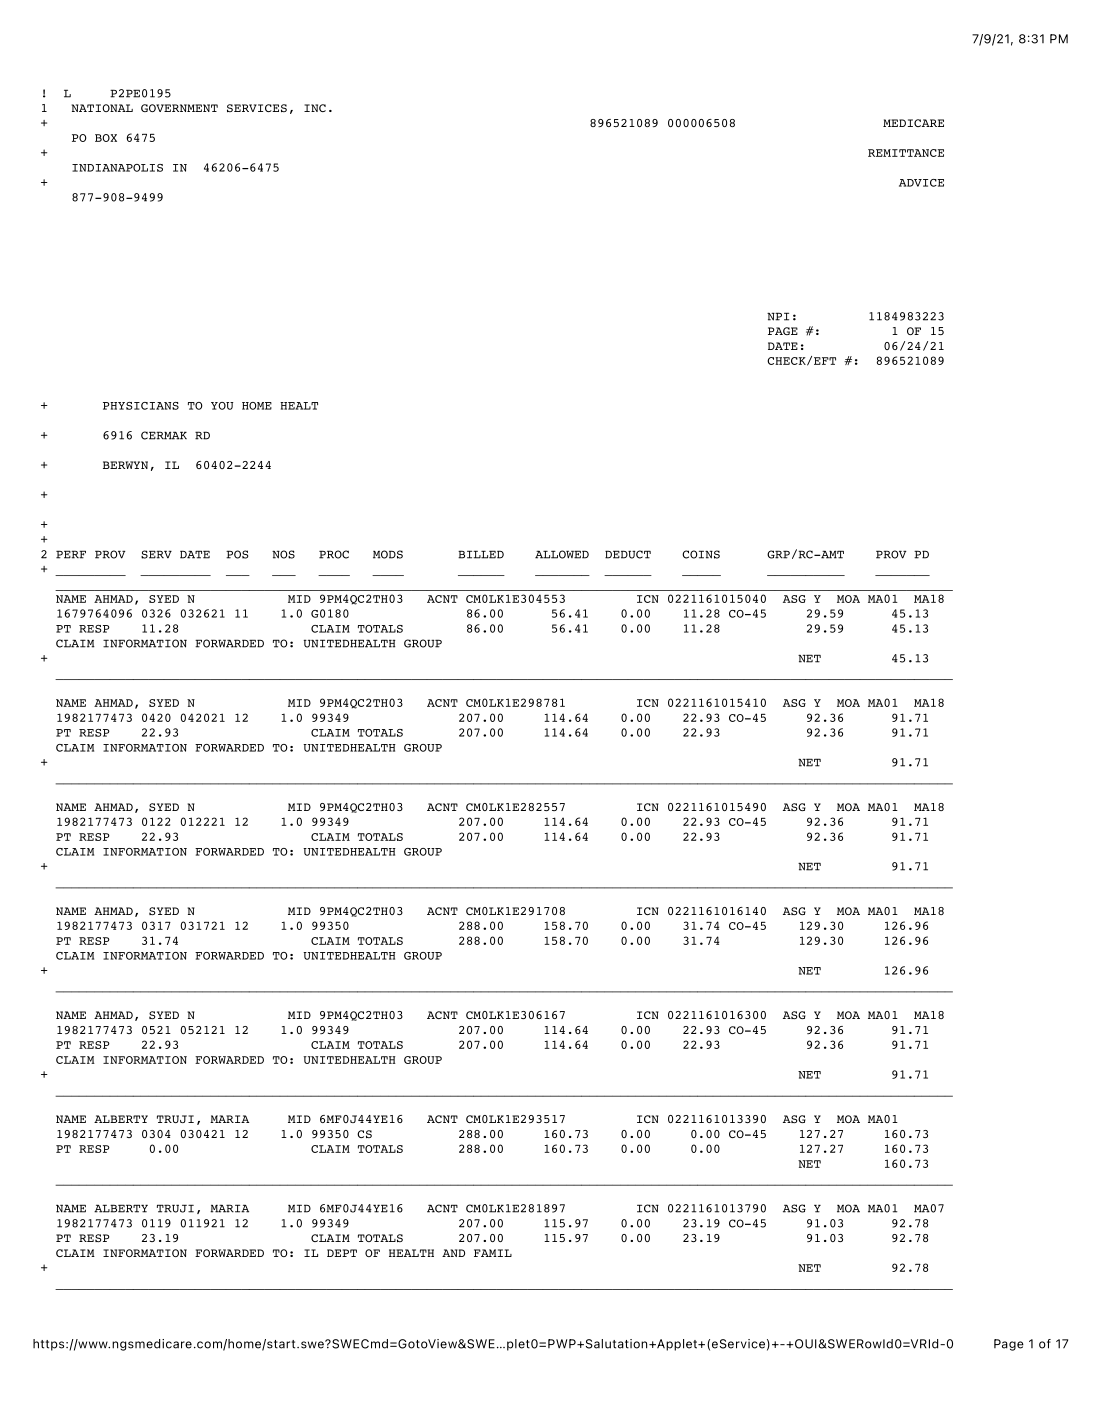data: (94, 385, 329, 482), (754, 291, 968, 388)
table: (52, 535, 986, 1307)
